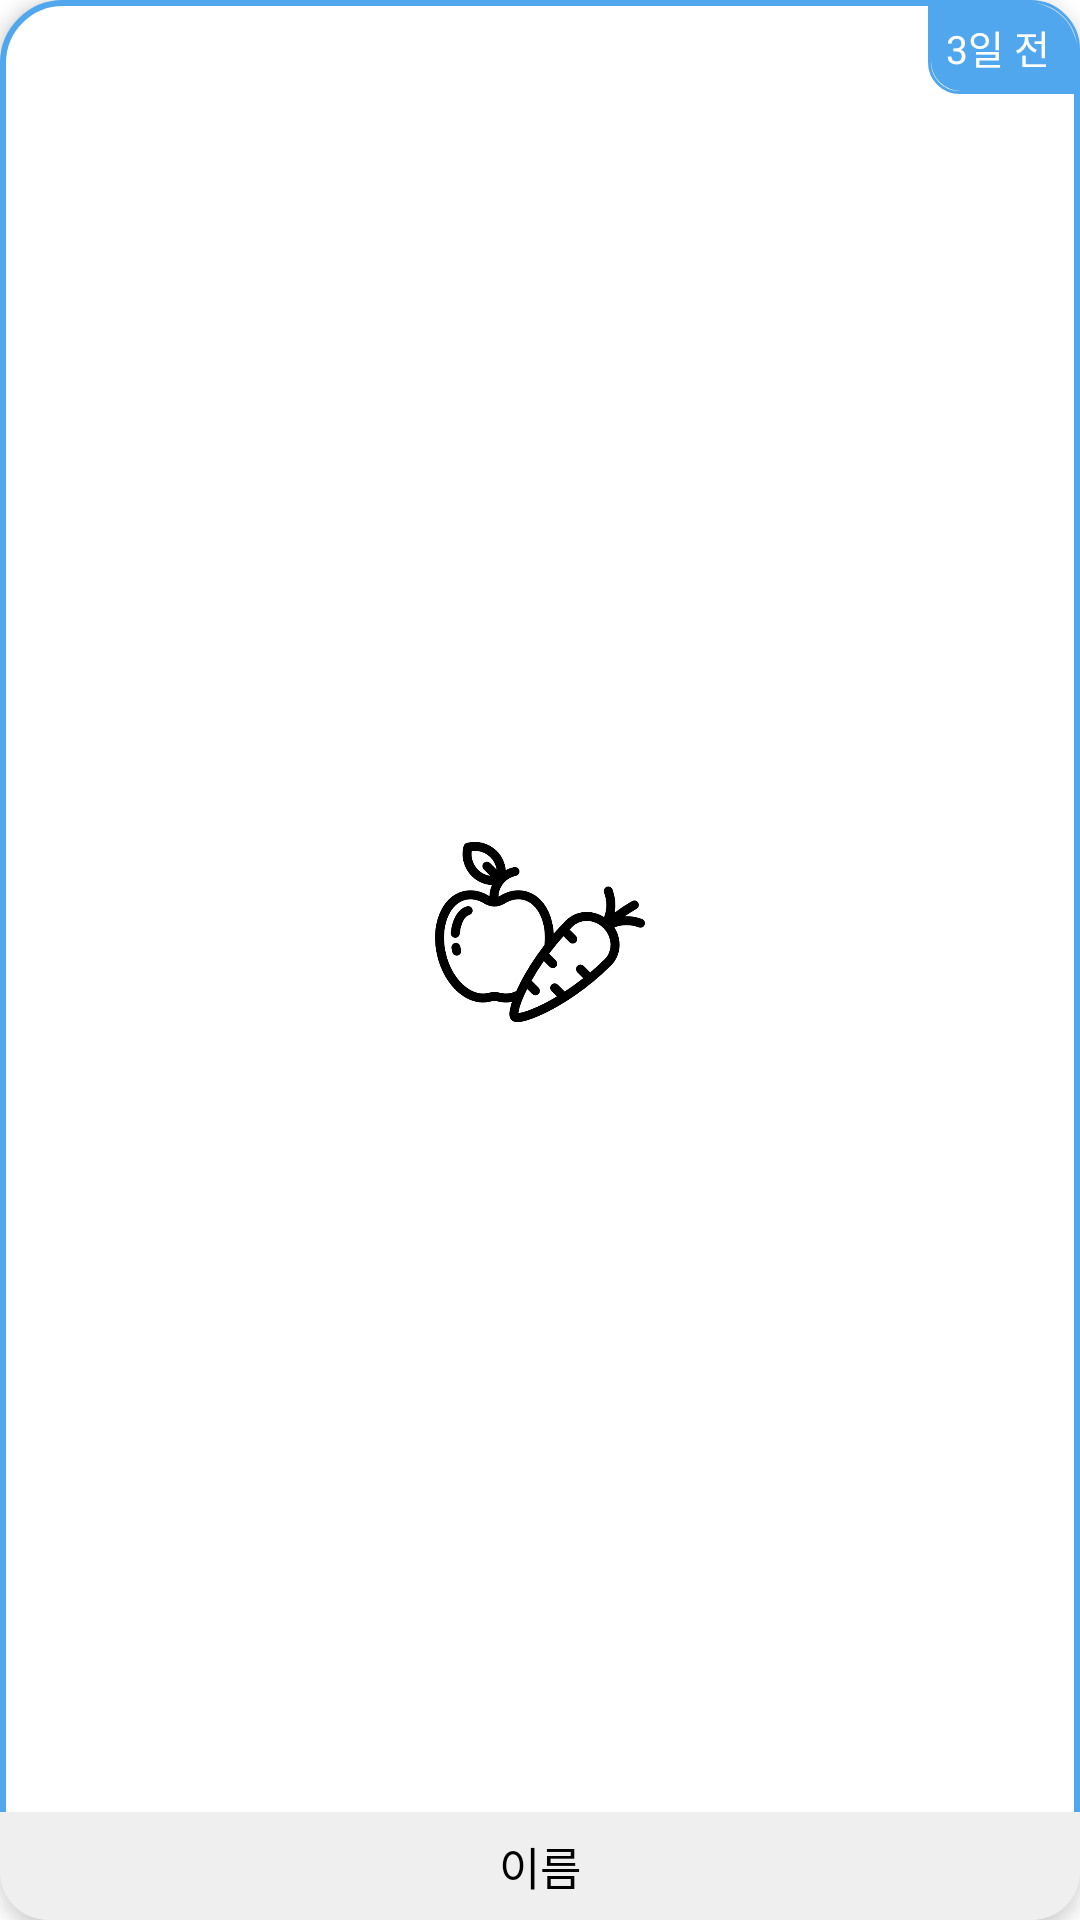

Where icons sit on this 1080x1920 app screen, as (x1, y1, x2, y2):
pic harvest: (435, 842, 645, 1022)
